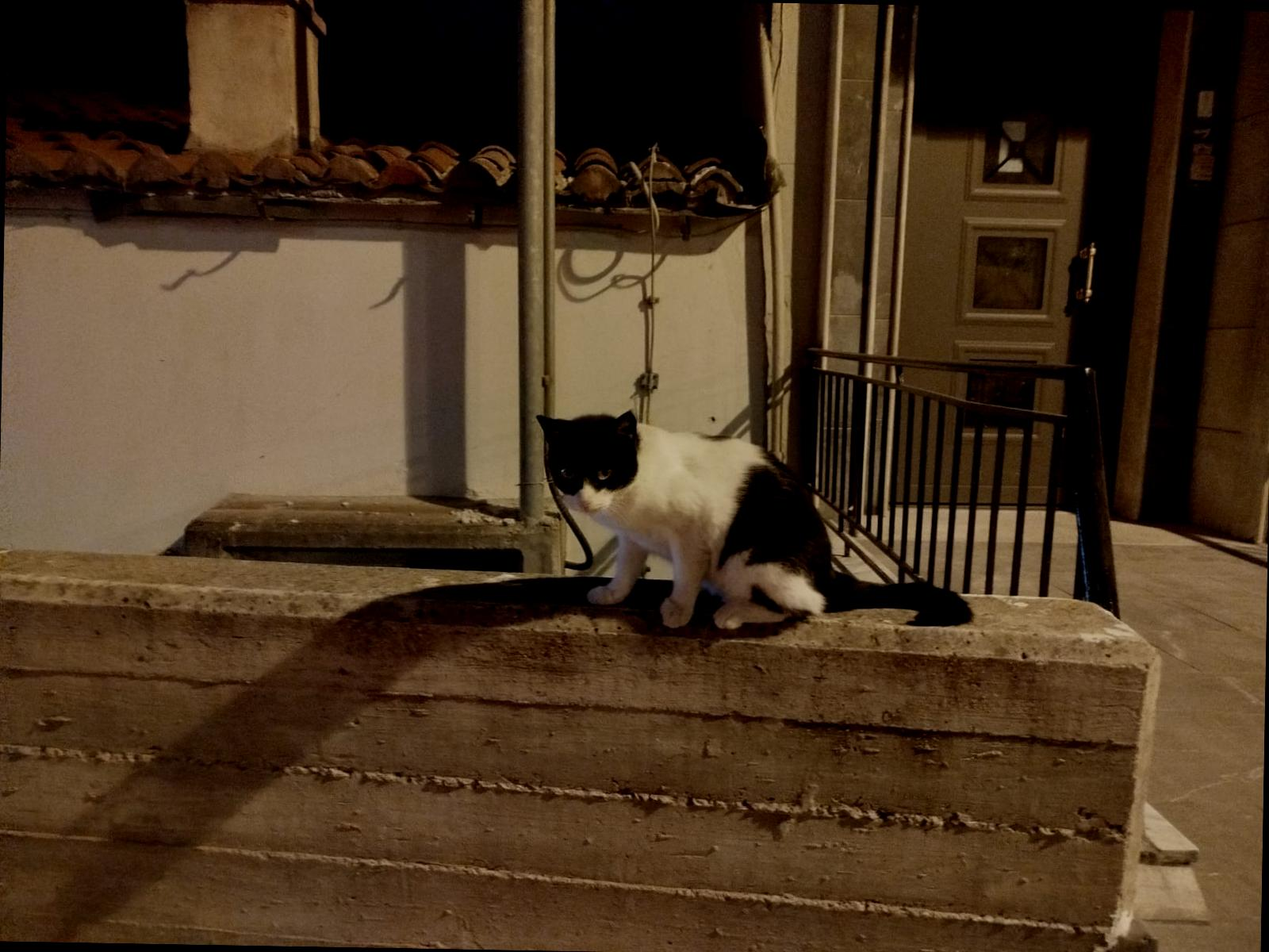macka: (532, 409, 974, 634)
